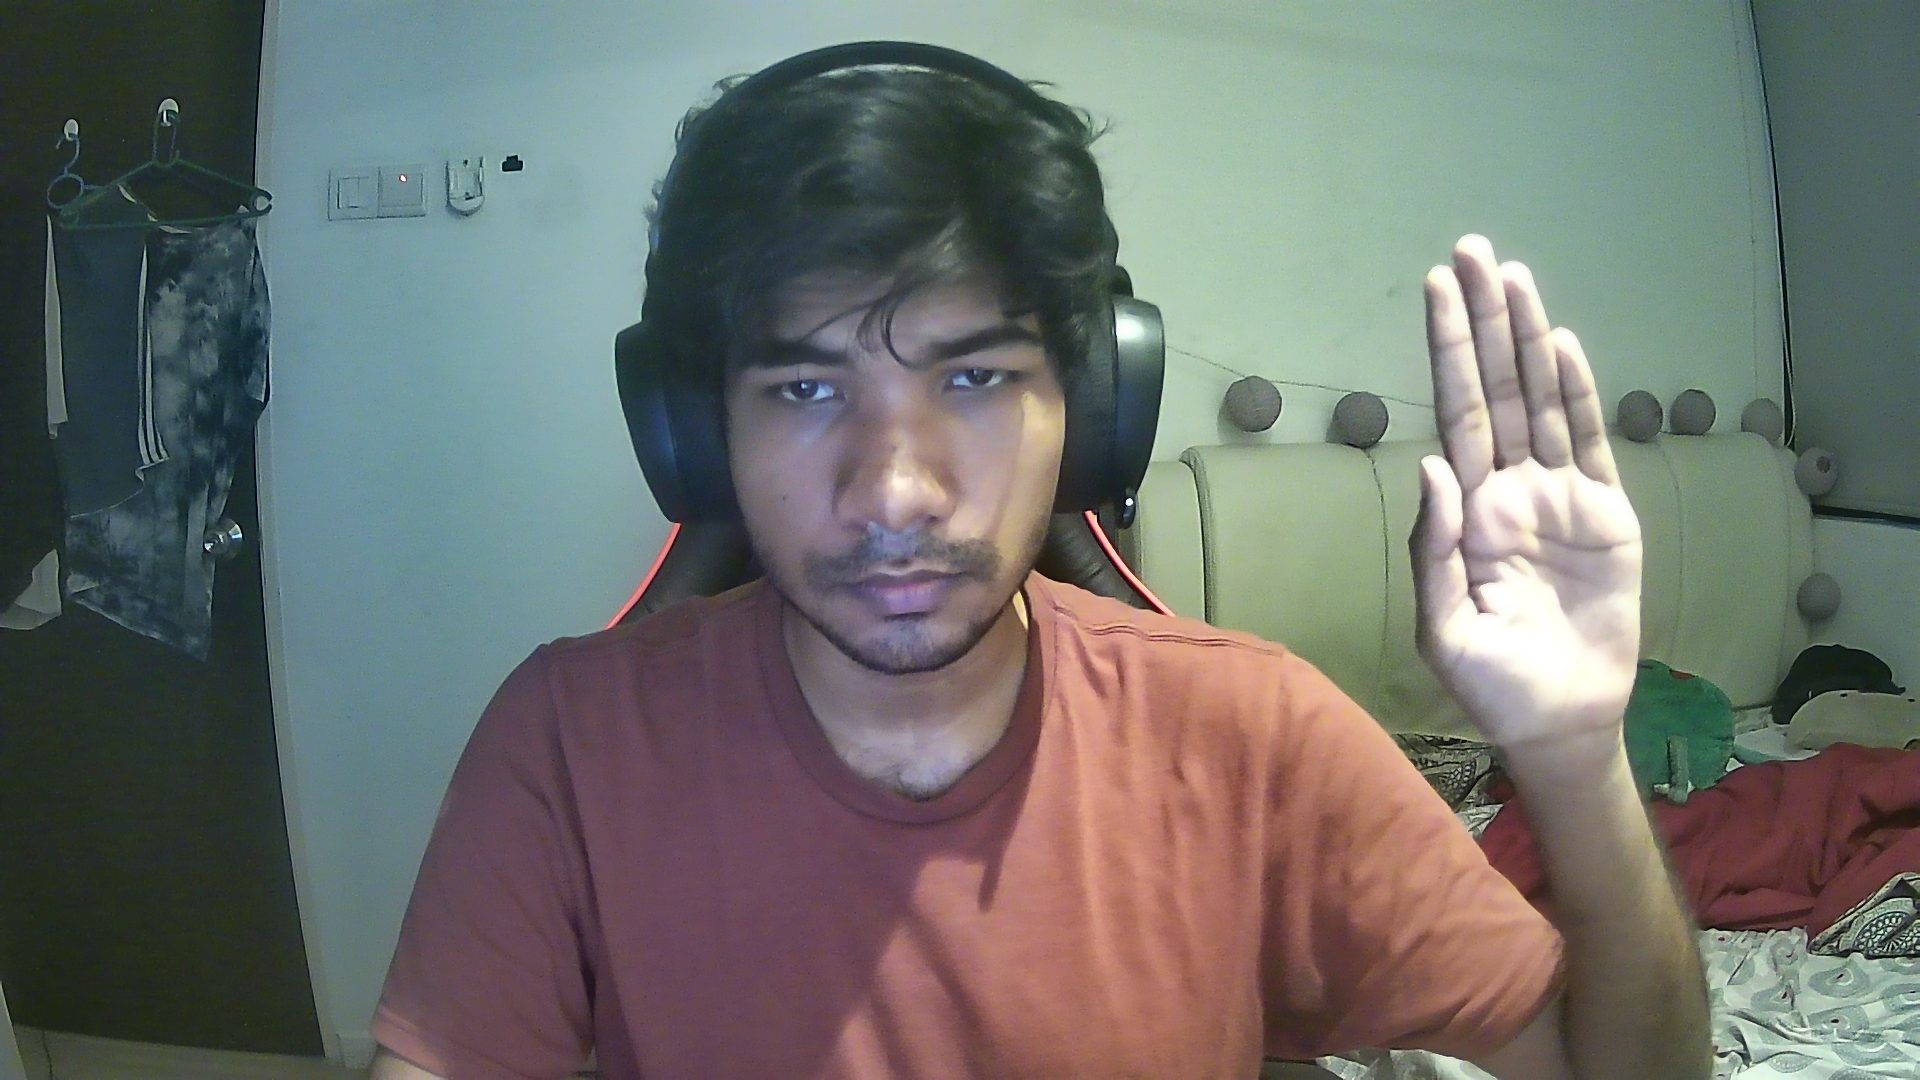Hello: (1393, 225, 1680, 764)
